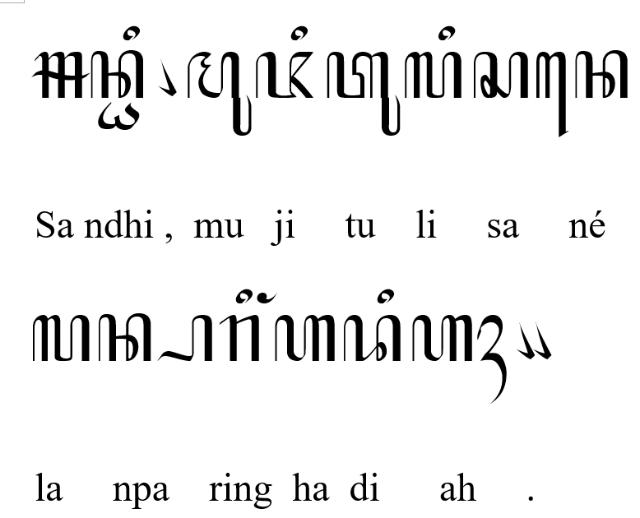S: (32, 52, 90, 98)
_dh: (98, 102, 140, 130)
_h1: (477, 313, 507, 403)
_p: (157, 315, 213, 362)
d: (342, 315, 402, 362)
e1: (536, 50, 568, 138)
h: (274, 315, 336, 363), (411, 314, 473, 362)
i: (376, 288, 396, 304), (122, 24, 140, 41), (235, 289, 252, 305), (292, 25, 308, 41), (438, 26, 454, 40)
j: (256, 52, 314, 98)
kom: (532, 320, 552, 360), (158, 59, 178, 97), (516, 320, 534, 360)
l: (404, 50, 462, 98), (32, 315, 90, 362)
mu: (186, 50, 252, 136)
n: (574, 50, 630, 100), (98, 313, 152, 362), (90, 50, 144, 98)
ng: (257, 292, 277, 304)
r: (219, 315, 261, 364)
s: (473, 52, 529, 98)
tu: (327, 52, 401, 136)
